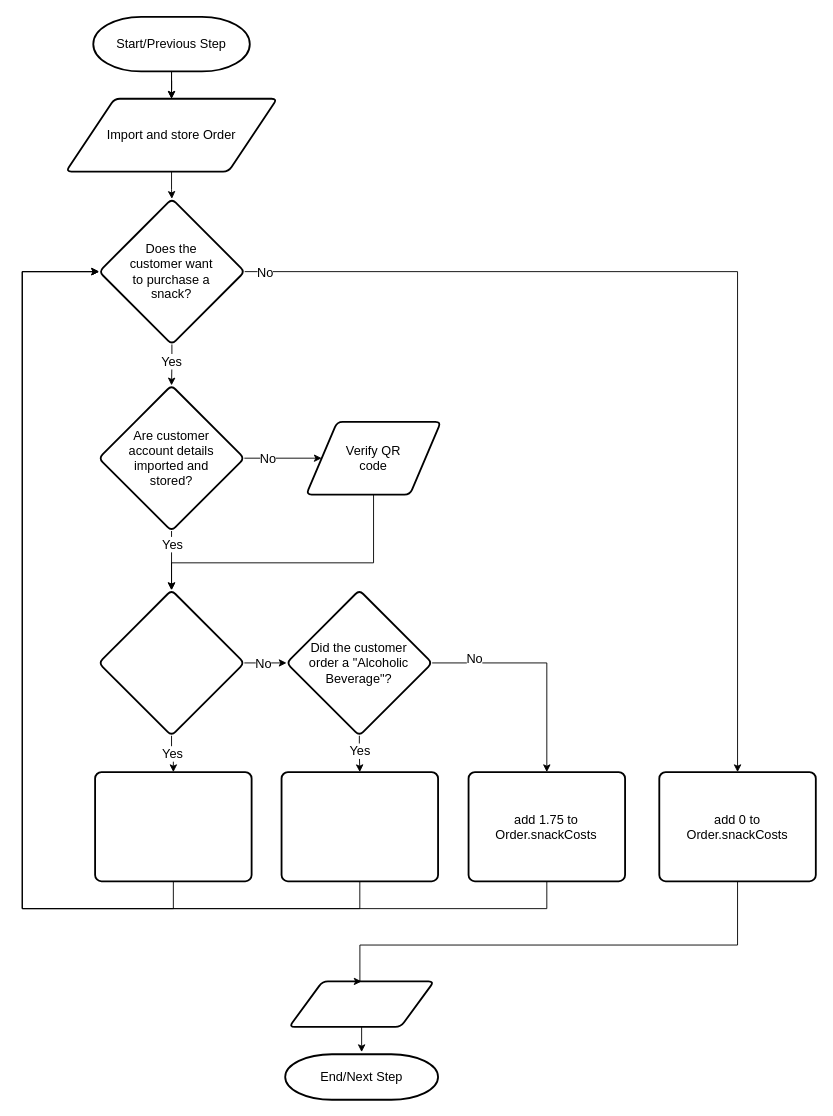
Some shapes in this 833 by 1116 pixel diagram are drawn without their labels. The shapes that lost their labels are listed below. From the top down, each one's centre as x and y in pixels, then its label:
pixel 171 662: Did the customer order a "Non-Alcoholic Beverage"?
pixel 173 826: add 2.25 to Order.snackCosts
pixel 359 826: add 7.5 to Order.snackCosts
pixel 361 1003: Output snackCosts
